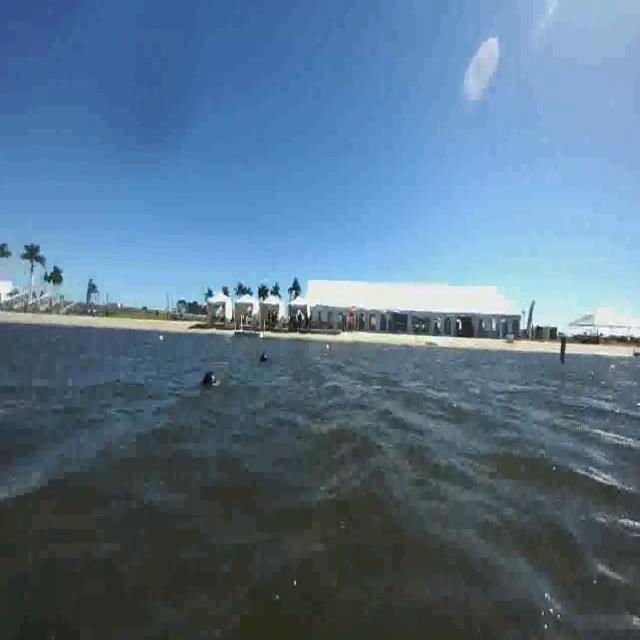black-buoy: (203, 368, 216, 389), (259, 349, 267, 362)
yellow-buoy: (159, 334, 164, 345)
